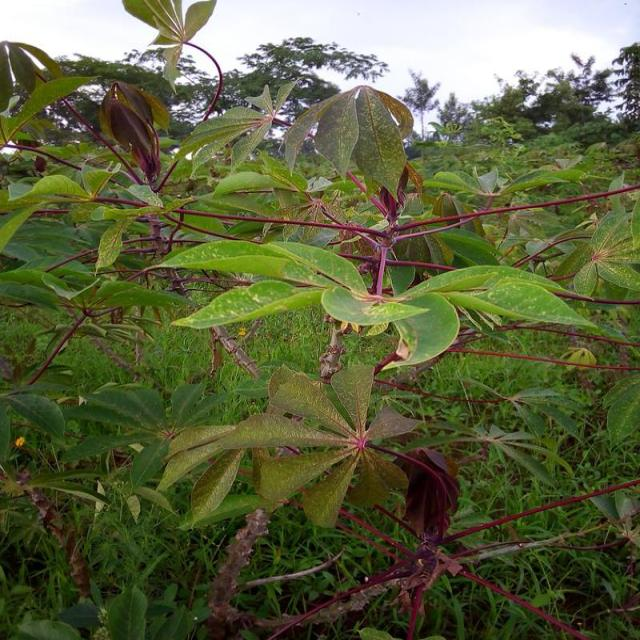cassava leaf: (285, 83, 414, 201)
